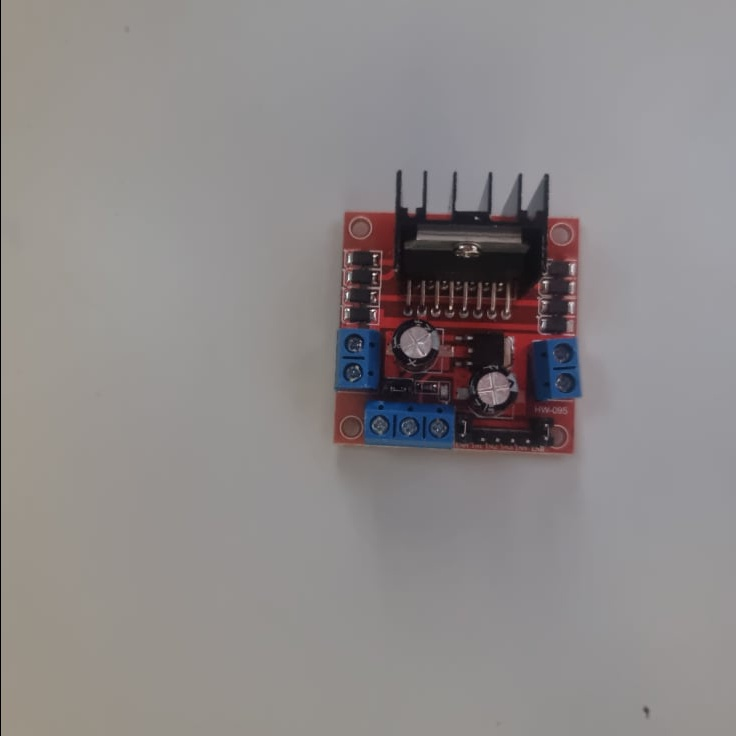MOTOR: (330, 174, 581, 449)
